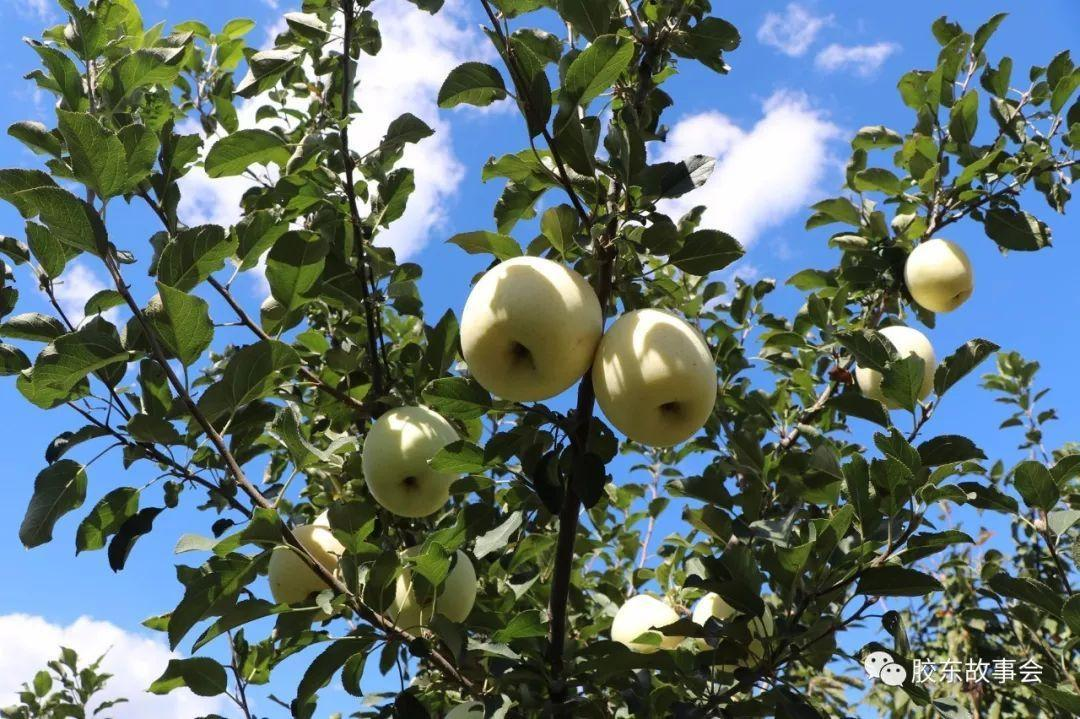apple: (458, 257, 602, 403), (592, 306, 719, 448), (362, 405, 459, 519), (269, 526, 352, 620), (854, 323, 933, 412), (903, 236, 973, 315), (612, 593, 682, 653)
